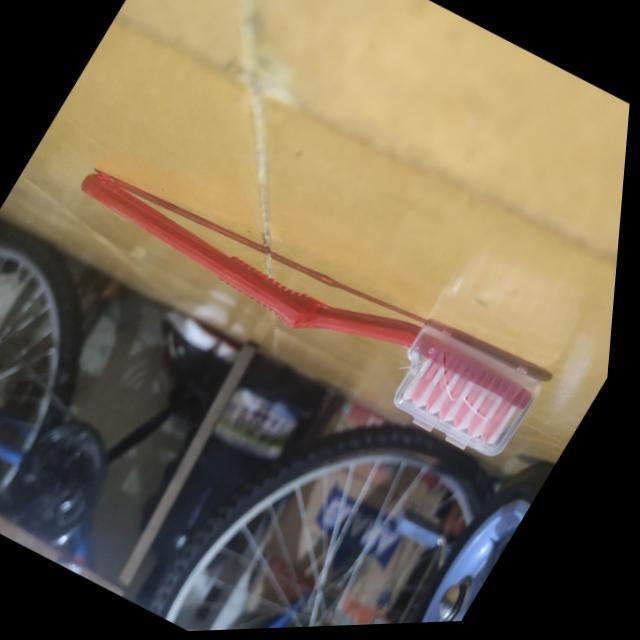toothbrush: (13, 115, 595, 512)
